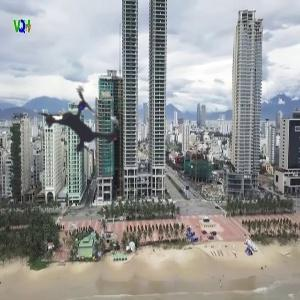drone: (17, 57, 148, 188)
